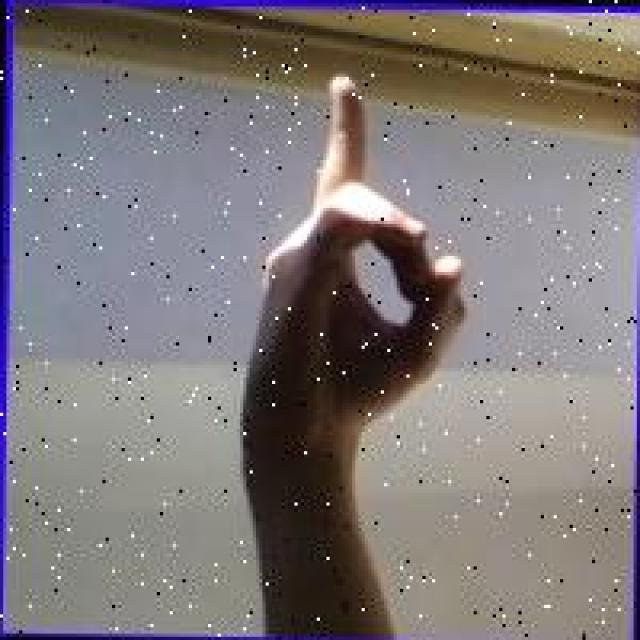D: (222, 69, 478, 501)
